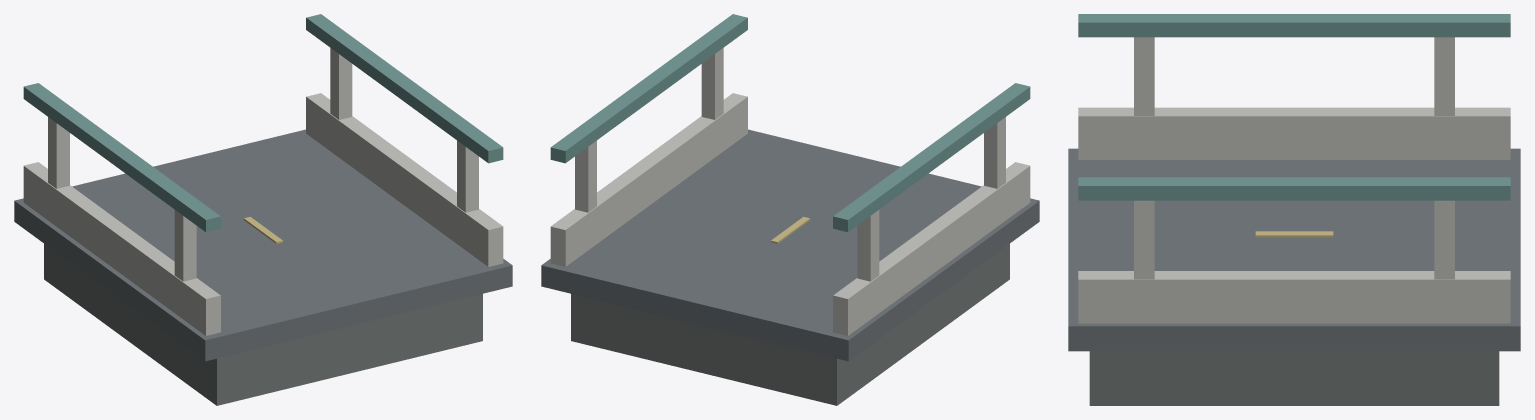
Rendered from bridge_1x1.glb.
3 renders of one model, left to right at view 1: azimuth 30°, elevation 25°; view 2: azimuth 150°, elevation 25°; view 3: azimuth 270°, elevation 25°, orthographic. The views are drawn at different scales.
Visible parts, largest first — view 1: bridge_1x1; view 2: bridge_1x1; view 3: bridge_1x1.
Boxes of the visible parts, x1,y1,x2,y2 form: bridge_1x1: (14,14,512,405); bridge_1x1: (541,14,1039,405); bridge_1x1: (1068,14,1520,405).
Size of the model in its own units: 1.83 by 1.1 by 1.97.
